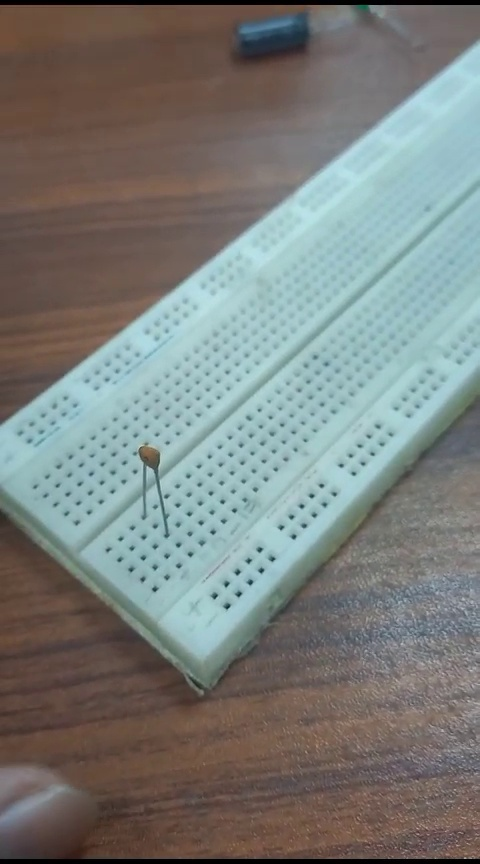ceramic capacitor: (135, 441, 180, 548)
